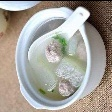dongguawanzi: (23, 13, 89, 103)
